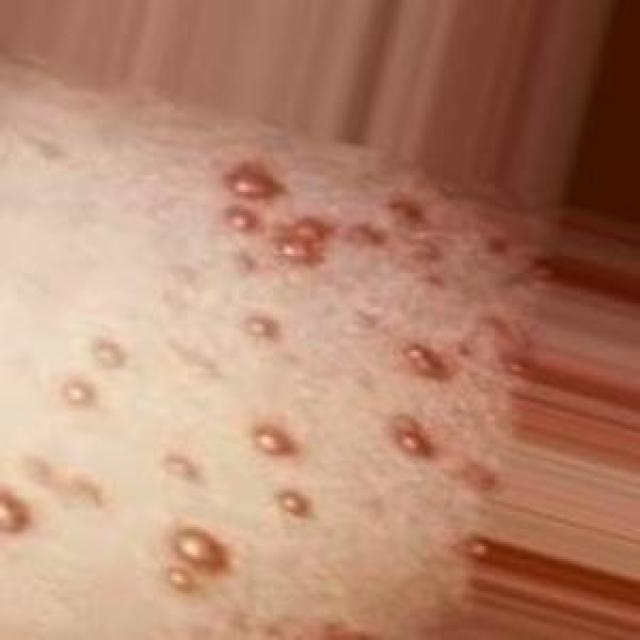Shingles: (175, 529, 224, 571), (226, 167, 282, 202), (253, 424, 296, 457), (395, 424, 433, 458), (278, 237, 321, 266), (0, 492, 30, 532), (404, 344, 440, 376), (245, 312, 281, 340), (288, 218, 324, 245), (277, 490, 311, 518), (389, 197, 424, 223), (227, 205, 257, 233), (64, 381, 94, 407), (163, 454, 194, 479), (95, 343, 124, 369), (166, 566, 195, 592)
